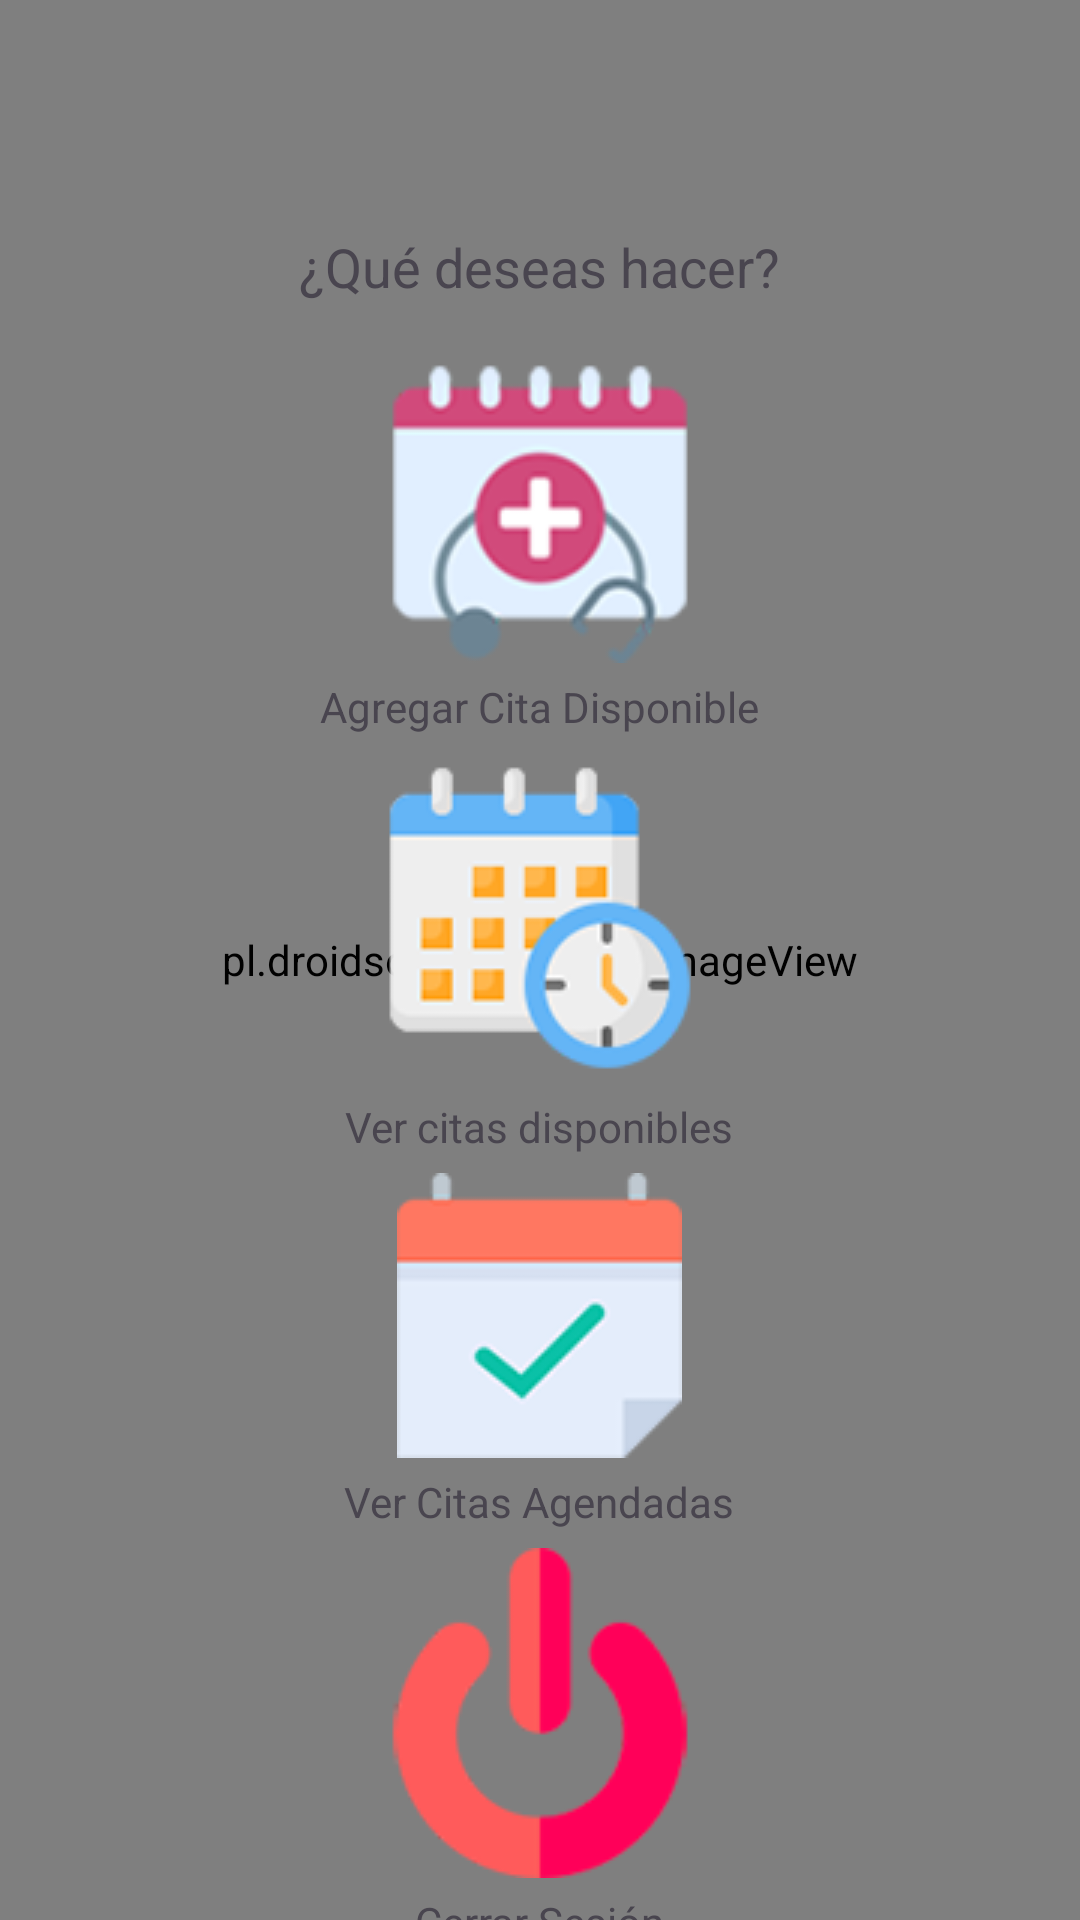

Icon bounding boxes for this 1080*1920 phone screenshot, format (x1, y1, x2, y2):
schedule: (387, 767, 695, 1069)
